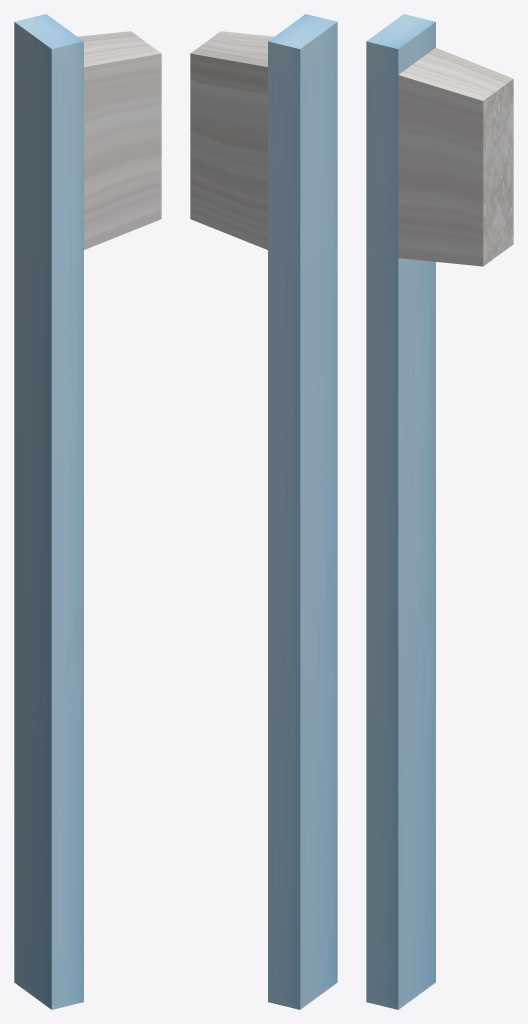
File: toothbrush.FBX
The picture shows the model from 3 angles, left to right: view 1: azimuth 30°, elevation 25°; view 2: azimuth 150°, elevation 25°; view 3: azimuth 330°, elevation 25°; orthographic projection.
Parts seen in each view (by area): view 1: Box001, Object001; view 2: Box001, Object001; view 3: Box001, Object001.
Boxes of the visible parts, x1,y1,x2,y2 form: Box001: [14, 14, 83, 1009]; Object001: [78, 31, 161, 249]; Box001: [268, 14, 337, 1009]; Object001: [190, 31, 273, 249]; Box001: [366, 14, 435, 1009]; Object001: [398, 48, 513, 266].
Size of the model in its own units: 9.55 by 77.38 by 5.47.
Materials: 2 (2 with a texture image).
